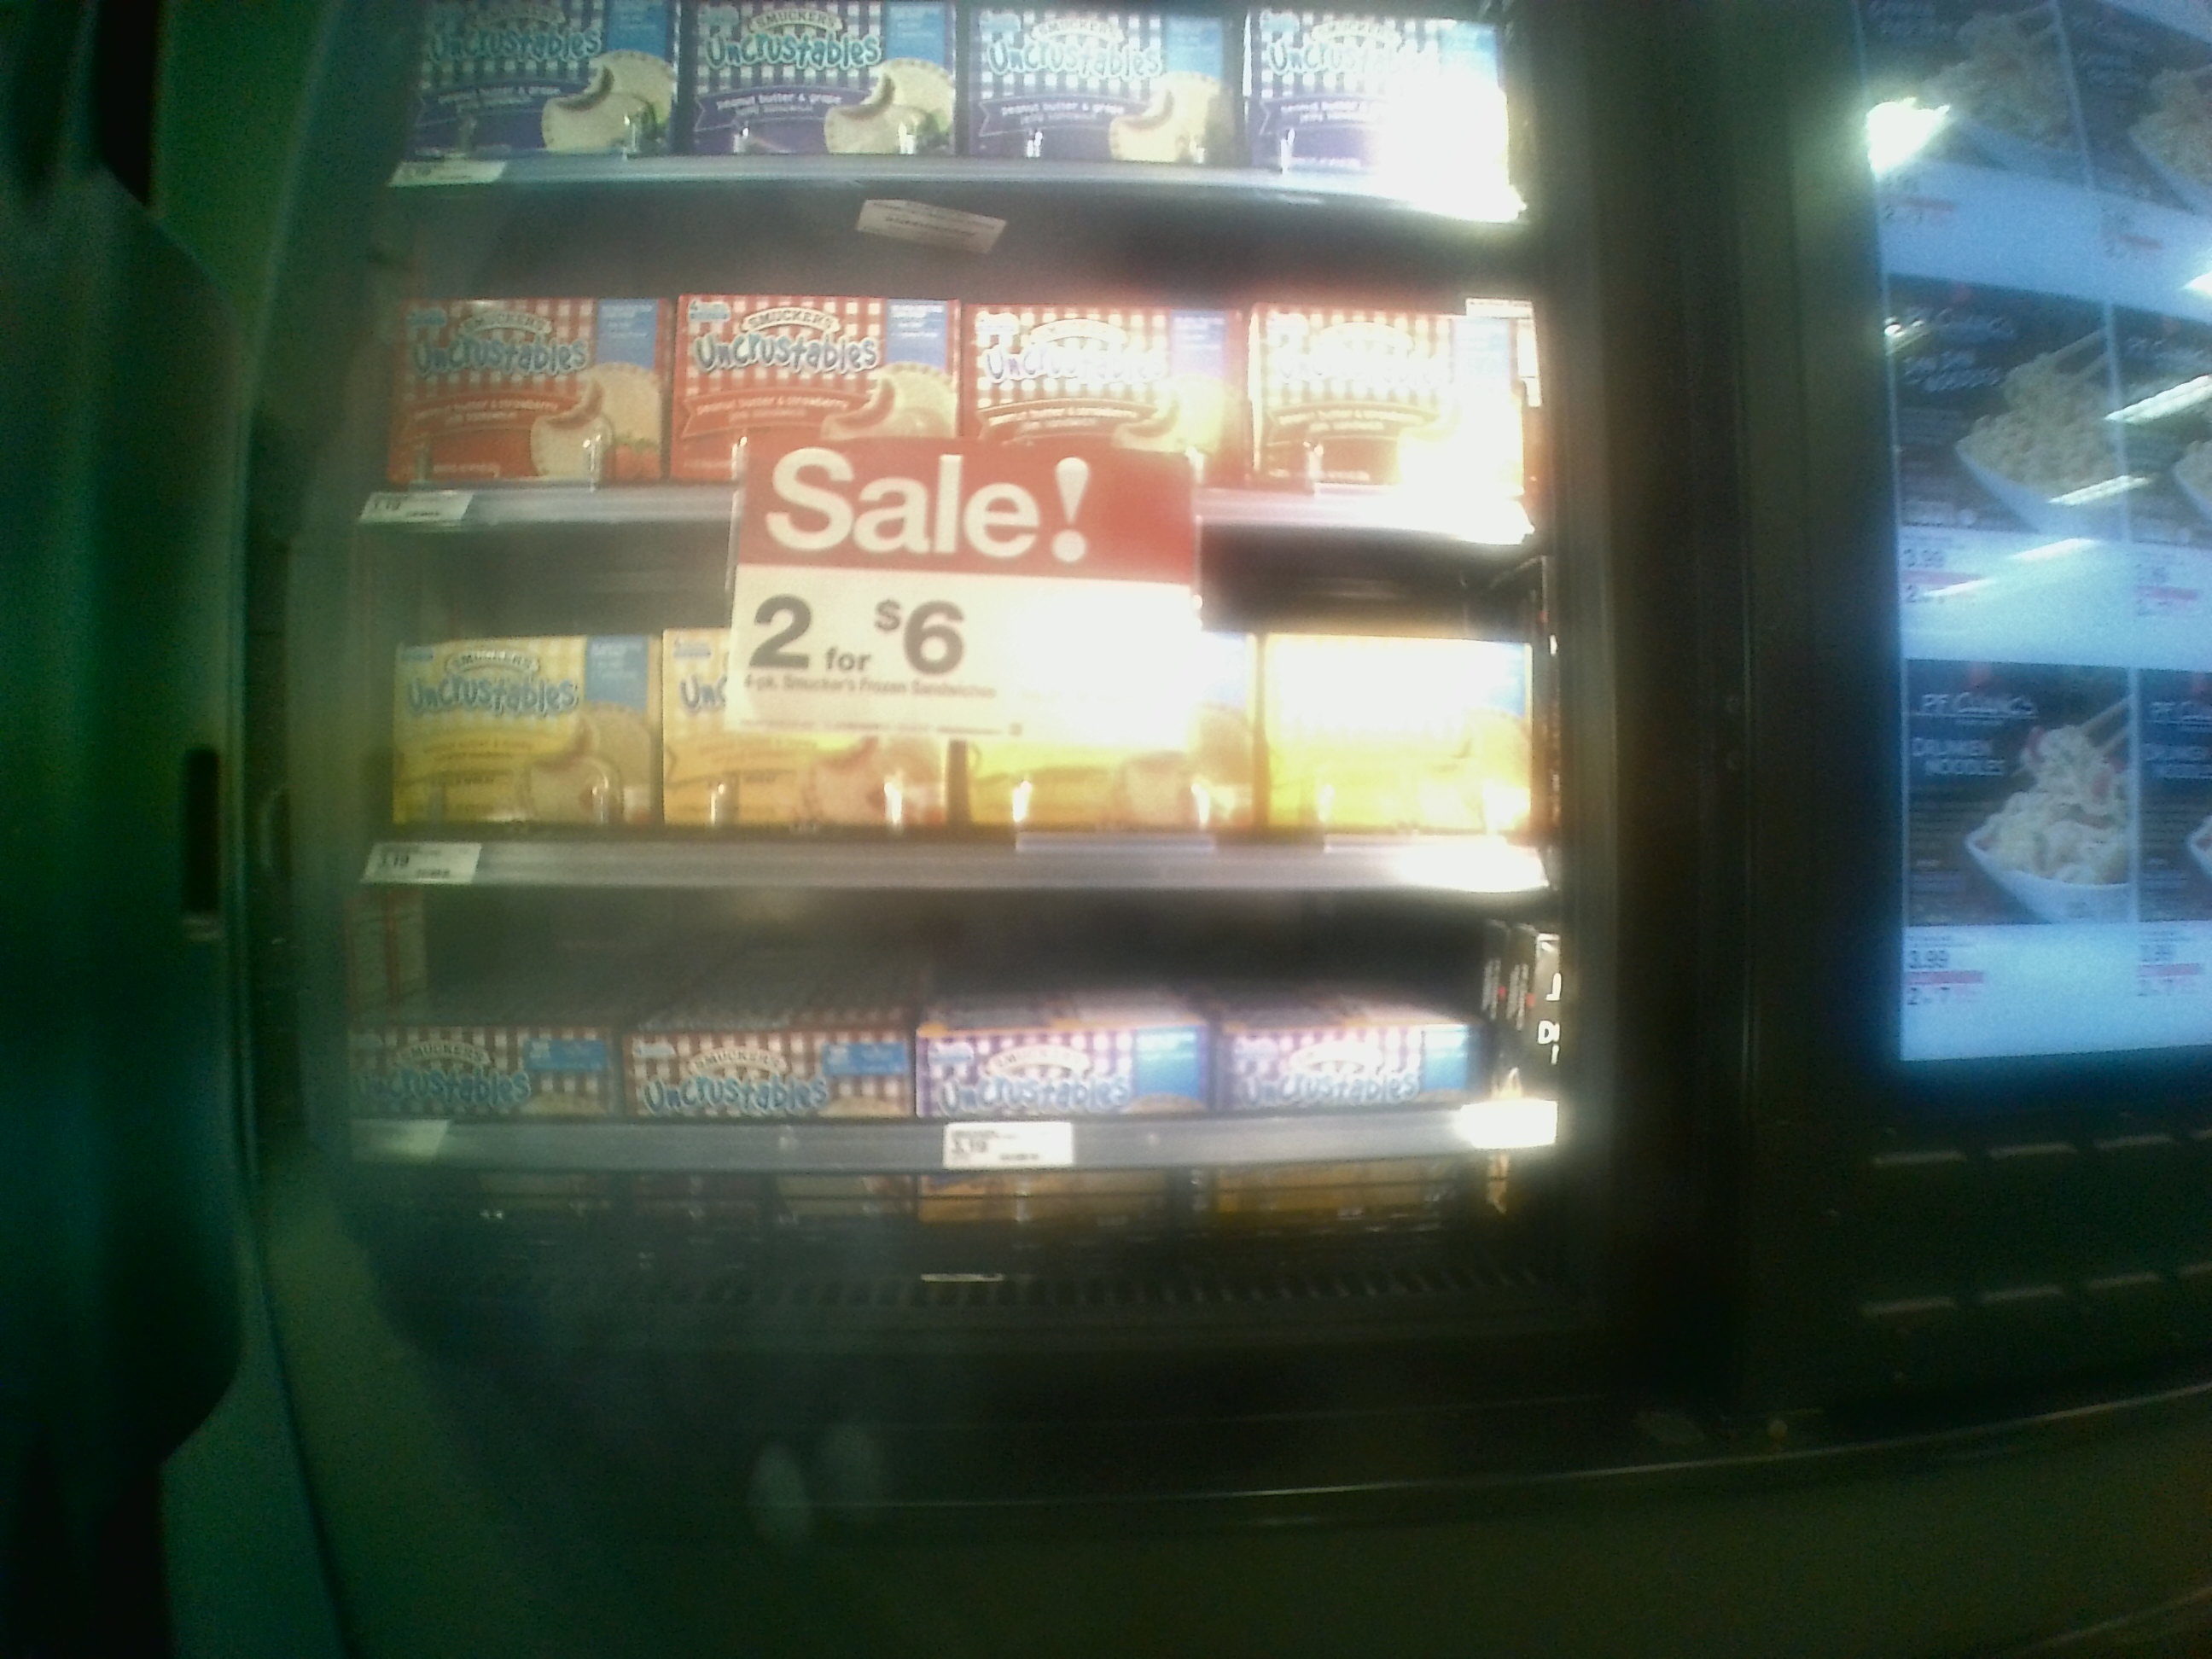shelf: (338, 533, 1571, 889), (361, 882, 1554, 1230), (366, 186, 1554, 528)
